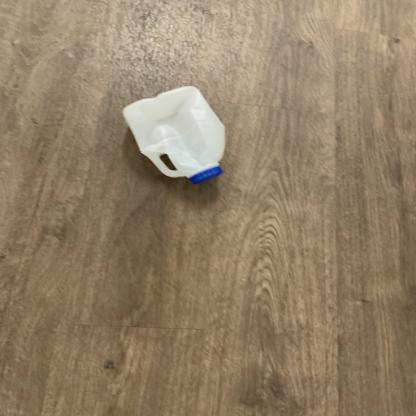trash: (122, 86, 230, 189)
